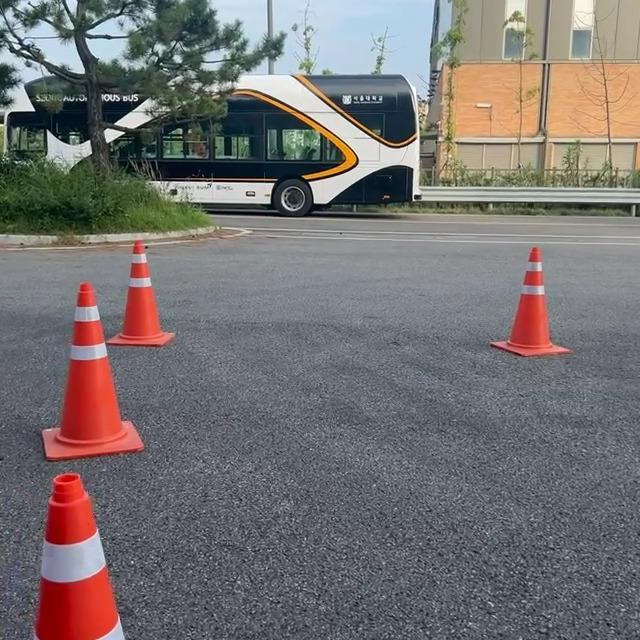fallen_object: (16, 437, 243, 640), (0, 253, 152, 536), (116, 227, 240, 380), (456, 227, 570, 392)
